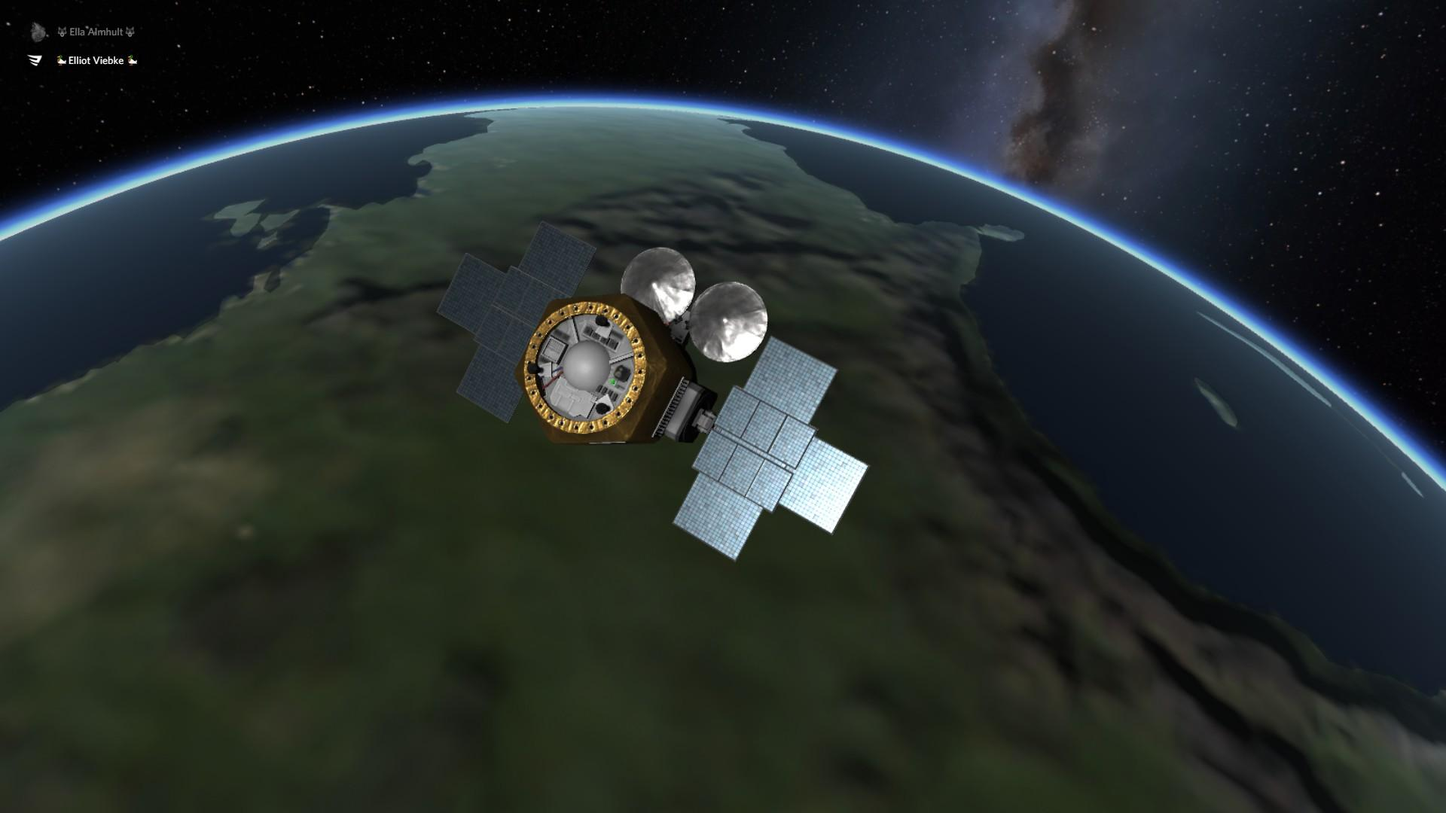antenna: (691, 278, 770, 364), (612, 249, 694, 321)
body: (511, 291, 701, 449)
solar: (670, 335, 871, 564), (432, 216, 598, 425)
thruster: (611, 359, 633, 381), (526, 361, 541, 377), (593, 401, 609, 416), (594, 315, 610, 328)
